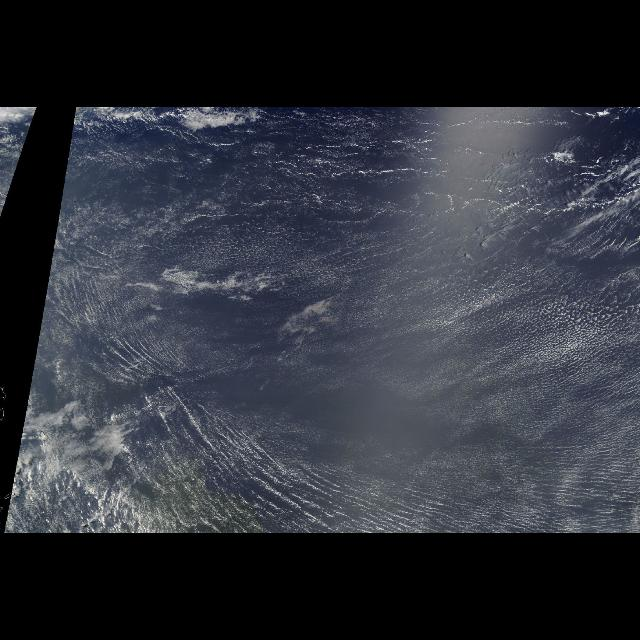Sugar: (40, 129, 640, 533)
